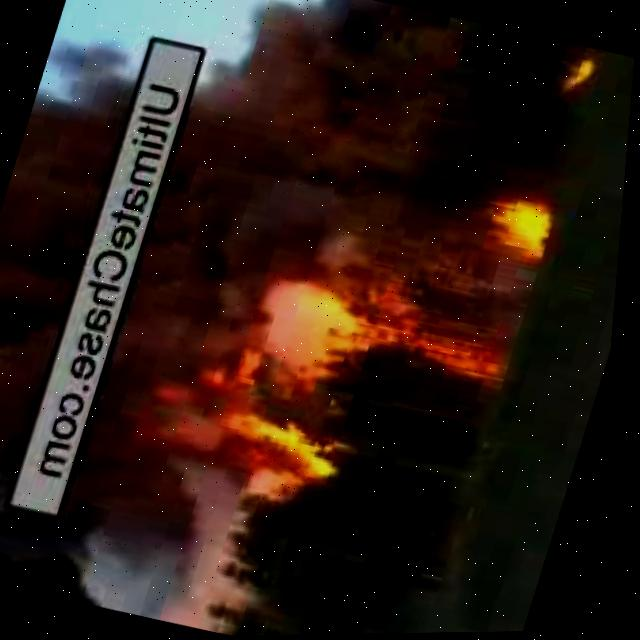Fire: (168, 376, 362, 515), (359, 296, 528, 406), (485, 199, 565, 266), (555, 53, 606, 99)
Smoke: (43, 0, 334, 617), (0, 26, 152, 582)
